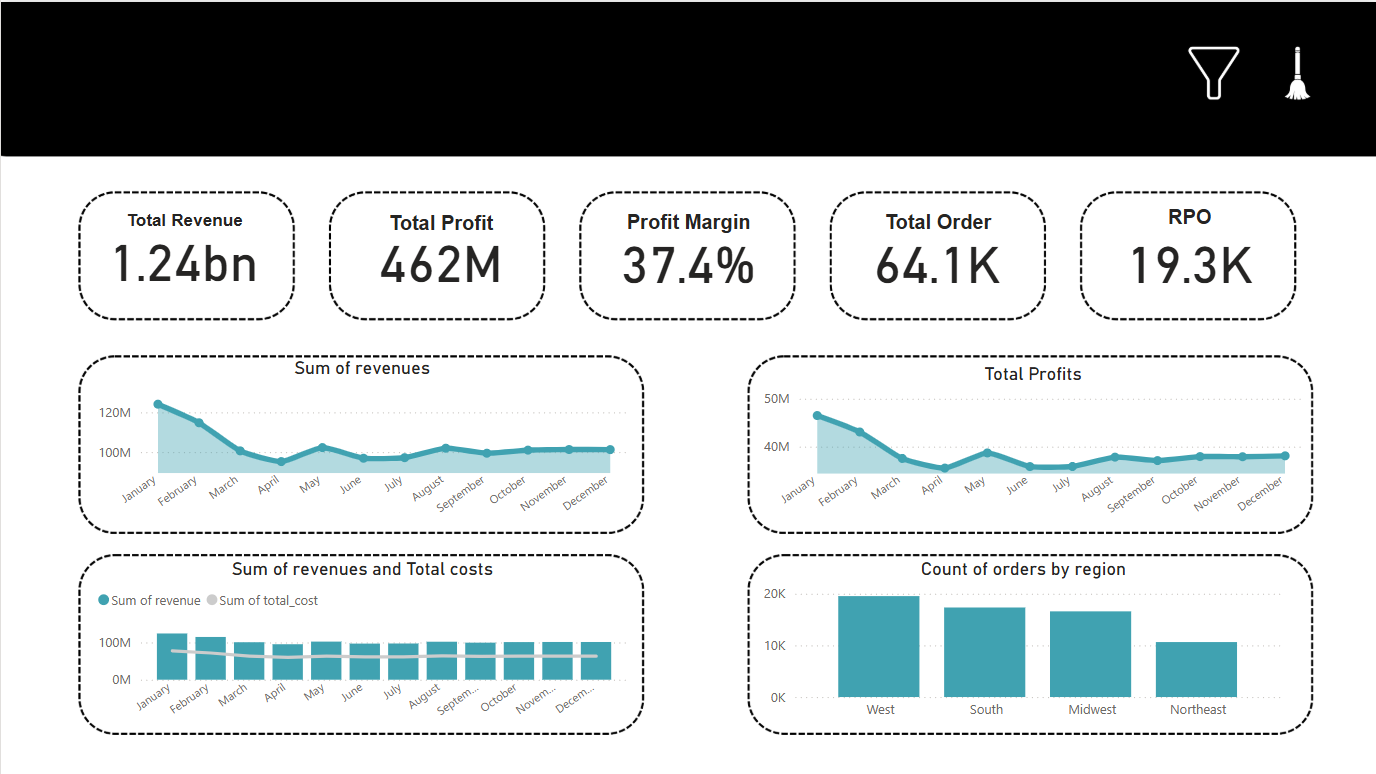

The dashboard page shown, as its layout file describes it:
{"tool":"powerbi","page":{"name":"Executive overview","canvas":[1280,720],"ordinal":1},"visuals":[{"type":"card","fields":{"Values":["Sum(Sales_data(EDA Exported) (1).revenue)"]},"box":[93.3,189.4,153.7,94.7],"z":0},{"type":"textbox","box":[85.4,189.8,172,32],"z":1000},{"type":"textbox","box":[317,190.7,183.9,46.7],"z":2000},{"type":"textbox","box":[562.6,189.4,153.7,35.7],"z":3000},{"type":"textbox","box":[805.5,189.4,131.7,34.3],"z":4000},{"type":"textbox","box":[1029.2,185.2,153.7,35.7],"z":5000},{"type":"card","fields":{"Values":["Sum(Sales_data(EDA Exported) (1).profit)"]},"box":[332.1,190.7,153.7,94.7],"z":6000},{"type":"card","fields":{"Values":["Custom.Profit Margin %"]},"box":[562.6,192.1,153.7,94.7],"z":7000},{"type":"card","fields":{"Values":["CountNonNull(Sales_data(EDA Exported) (1).order_month_num)"]},"box":[794.5,192.1,153.7,94.7],"z":8000},{"type":"card","fields":{"Values":["Custom.Revenue per order"]},"box":[1029.2,192.1,153.7,94.7],"z":9000},{"type":"lineChart","title":"Sum of revenues","fields":{"Category":["Sales_data(EDA Exported) (1).order_month_name"],"Y":["Sum(Sales_data(EDA Exported) (1).revenue)"]},"box":[84.9,330.2,502.3,158.1],"z":10000},{"type":"lineChart","title":"Total Profits","fields":{"Category":["Sales_data(EDA Exported) (1).order_month_name"],"Y":["Custom.Total Profit"]},"box":[704.5,336.4,510.9,151.8],"z":11000},{"type":"lineStackedColumnComboChart","title":"Sum of revenues and Total costs","fields":{"Category":["Sales_data(EDA Exported) (1).order_month_name"],"Y2":["Sum(Sales_data(EDA Exported) (1).total_cost)"],"Y":["Sum(Sales_data(EDA Exported) (1).revenue)"]},"box":[84.5,517.3,502.7,158.2],"z":12000},{"type":"clusteredColumnChart","title":"Count of orders  by region","fields":{"Category":["Sales_data(EDA Exported) (1).us_region"],"Y":["CountNonNull(Sales_data(EDA Exported) (1).order_number)"]},"box":[704.7,517.4,493,159.3],"z":13000},{"type":"actionButton","box":[1097.5,37.3,62.1,63.2],"z":16000},{"type":"actionButton","box":[1159.6,37.3,68.9,63.2],"z":18000}]}

Visuals, with their boxes in screenshot pixels (x1, y1, x2, y2), scaled from the page's 1280x720 canvas onto the 1376x774 screenshot:
card - Sum(Sales_data(EDA Exported) (1).revenue): 100 204 266 305
textbox: 92 204 277 238
textbox: 341 205 538 255
textbox: 605 204 770 242
textbox: 866 204 1007 240
textbox: 1106 199 1272 237
card - Sum(Sales_data(EDA Exported) (1).profit): 357 205 522 307
card - Custom.Profit Margin %: 605 207 770 308
card - CountNonNull(Sales_data(EDA Exported) (1).order_month_num): 854 207 1019 308
card - Custom.Revenue per order: 1106 207 1272 308
"Sum of revenues" lineChart: 91 355 631 525
"Total Profits" lineChart: 757 362 1307 525
"Sum of revenues and Total costs" lineStackedColumnComboChart: 91 556 631 726
"Count of orders  by region" clusteredColumnChart: 758 556 1288 727
actionButton: 1180 40 1247 108
actionButton: 1247 40 1321 108
